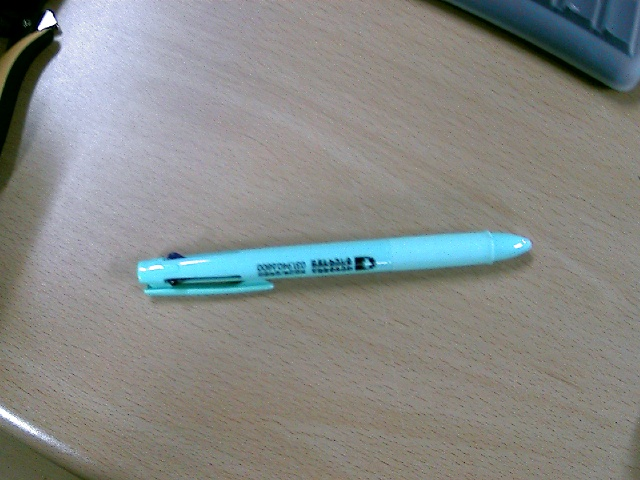pen: (133, 219, 550, 290), (147, 272, 163, 309)
